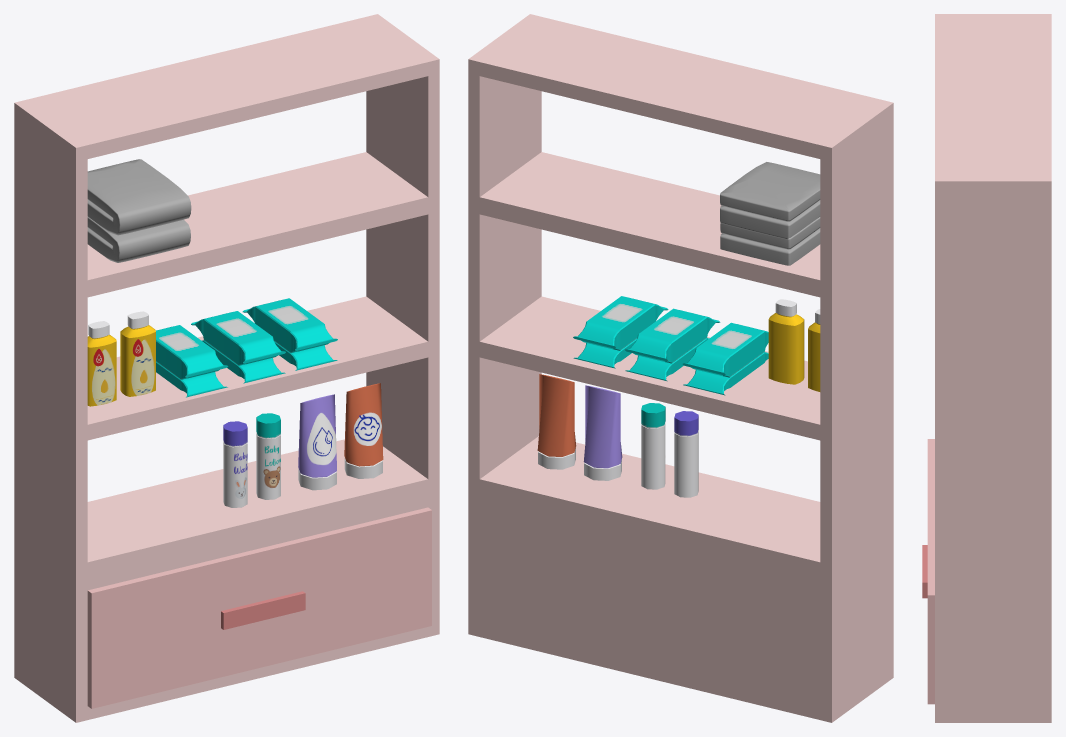
Rendered from Shelf_V1.fbx.
3 views of the same model, side by side, from view 1: azimuth 30°, elevation 25°; view 2: azimuth 150°, elevation 25°; view 3: azimuth 270°, elevation 25° (orthographic). The views are drawn at different scales.
Parts seen in each view (by area): view 1: Shelf_01, RE_BabyProducts_01, RE_BeautyProducts_03, polySurface81, polySurface82; view 2: Shelf_01, RE_BabyProducts_01, RE_BeautyProducts_03, polySurface81, polySurface82; view 3: Shelf_01.
Part boxes in pixels (<box>): Shelf_01: <box>14,14,439,722</box>; RE_BabyProducts_01: <box>87,298,337,406</box>; RE_BeautyProducts_03: <box>223,383,383,507</box>; polySurface81: <box>87,159,191,235</box>; polySurface82: <box>87,216,190,262</box>; Shelf_01: <box>468,14,893,722</box>; RE_BabyProducts_01: <box>573,296,820,395</box>; RE_BeautyProducts_03: <box>537,374,698,497</box>; polySurface81: <box>720,162,820,239</box>; polySurface82: <box>720,217,820,265</box>; Shelf_01: <box>922,14,1051,722</box>.
Bounding box in the file's own units: 103 × 156 × 33.78.
